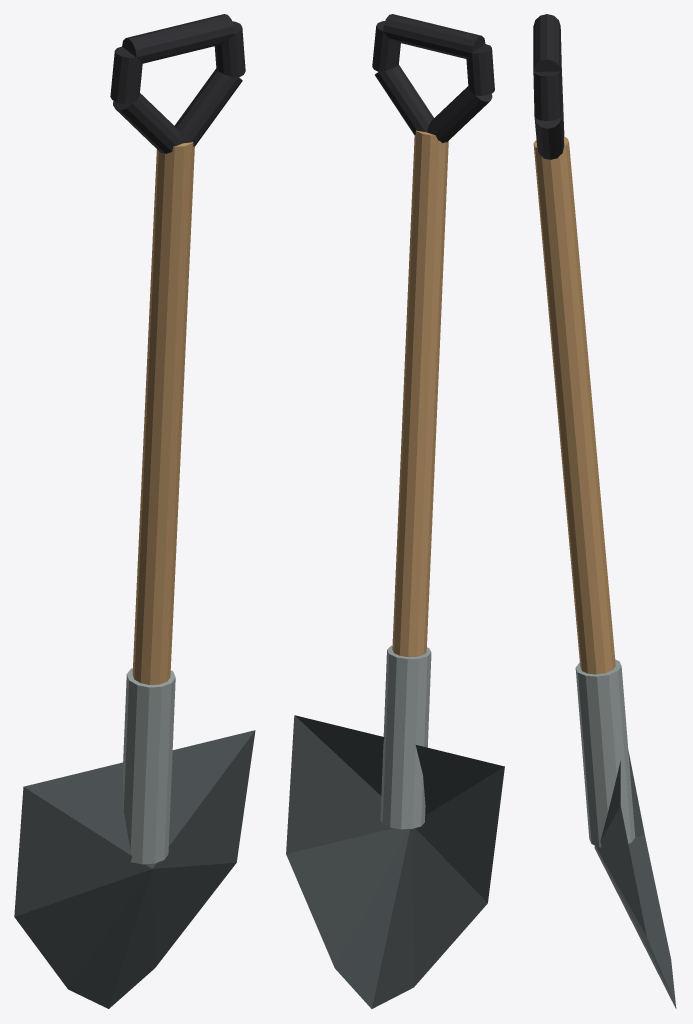
The model's file is TOOL_Shovel.glb.
3 views of the same model, side by side, from view 1: azimuth 30°, elevation 25°; view 2: azimuth 150°, elevation 25°; view 3: azimuth 270°, elevation 25° (orthographic). The views are drawn at different scales.
Parts seen in each view (by area): view 1: Blade, Shaft, DGrip, Socket; view 2: Blade, Shaft, DGrip, Socket; view 3: Shaft, Socket, Blade, DGrip.
Boxes of the visible parts, x1,y1,x2,y2 form: Blade: (14, 730, 255, 1008); Shaft: (132, 142, 194, 684); DGrip: (110, 14, 245, 153); Socket: (122, 668, 175, 864); Blade: (286, 715, 504, 1008); Shaft: (392, 130, 448, 657); DGrip: (372, 14, 494, 142); Socket: (380, 645, 431, 829); Shaft: (533, 137, 615, 674); Socket: (575, 659, 635, 847); Blade: (594, 750, 676, 1008); DGrip: (533, 14, 564, 159).
Bounding box in the file's own units: 0.24 × 1.02 × 0.138.
